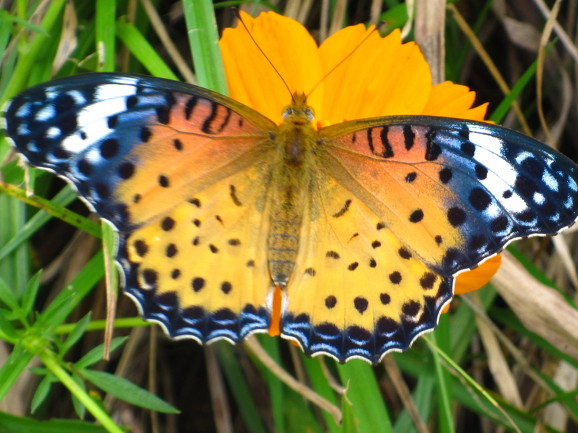Argyreus hyperbius: (4, 3, 578, 369)
butterfly: (2, 1, 576, 367)
